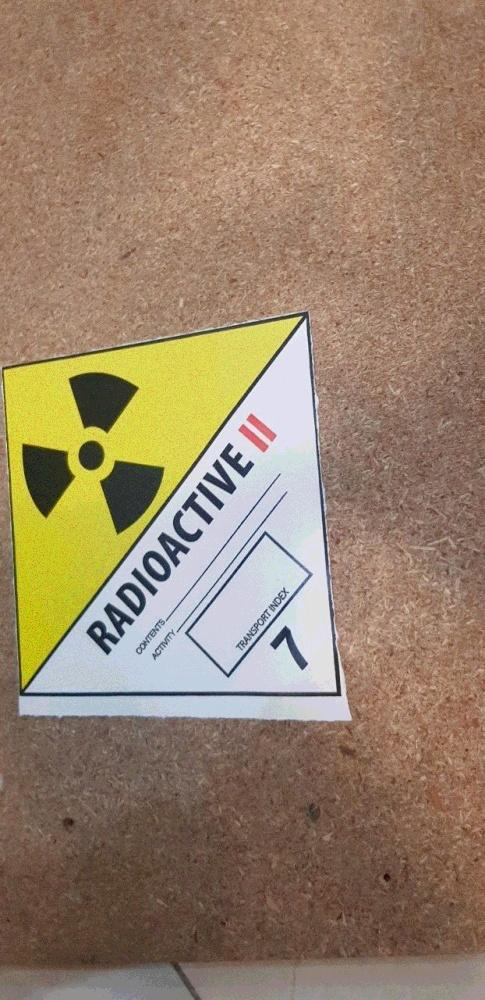radioactive: (1, 309, 351, 700)
